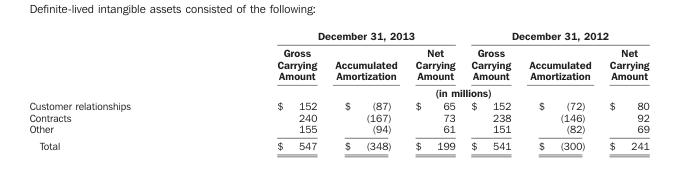table: (28, 29, 648, 151)
table column: (28, 29, 203, 151), (203, 29, 325, 151), (325, 29, 405, 151), (519, 29, 599, 151), (405, 29, 462, 151), (462, 29, 519, 151), (599, 29, 648, 151)
table column header: (28, 29, 648, 98)
table row: (28, 43, 648, 83), (28, 83, 648, 98), (28, 136, 648, 151), (28, 29, 648, 43), (28, 122, 648, 136), (28, 98, 648, 111), (28, 111, 648, 122)
table spanning cell: (203, 83, 648, 98), (203, 29, 462, 43), (462, 29, 648, 43)
